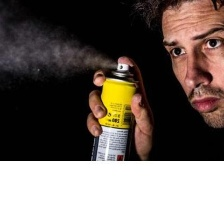aerosol_cans: (83, 57, 142, 197)
